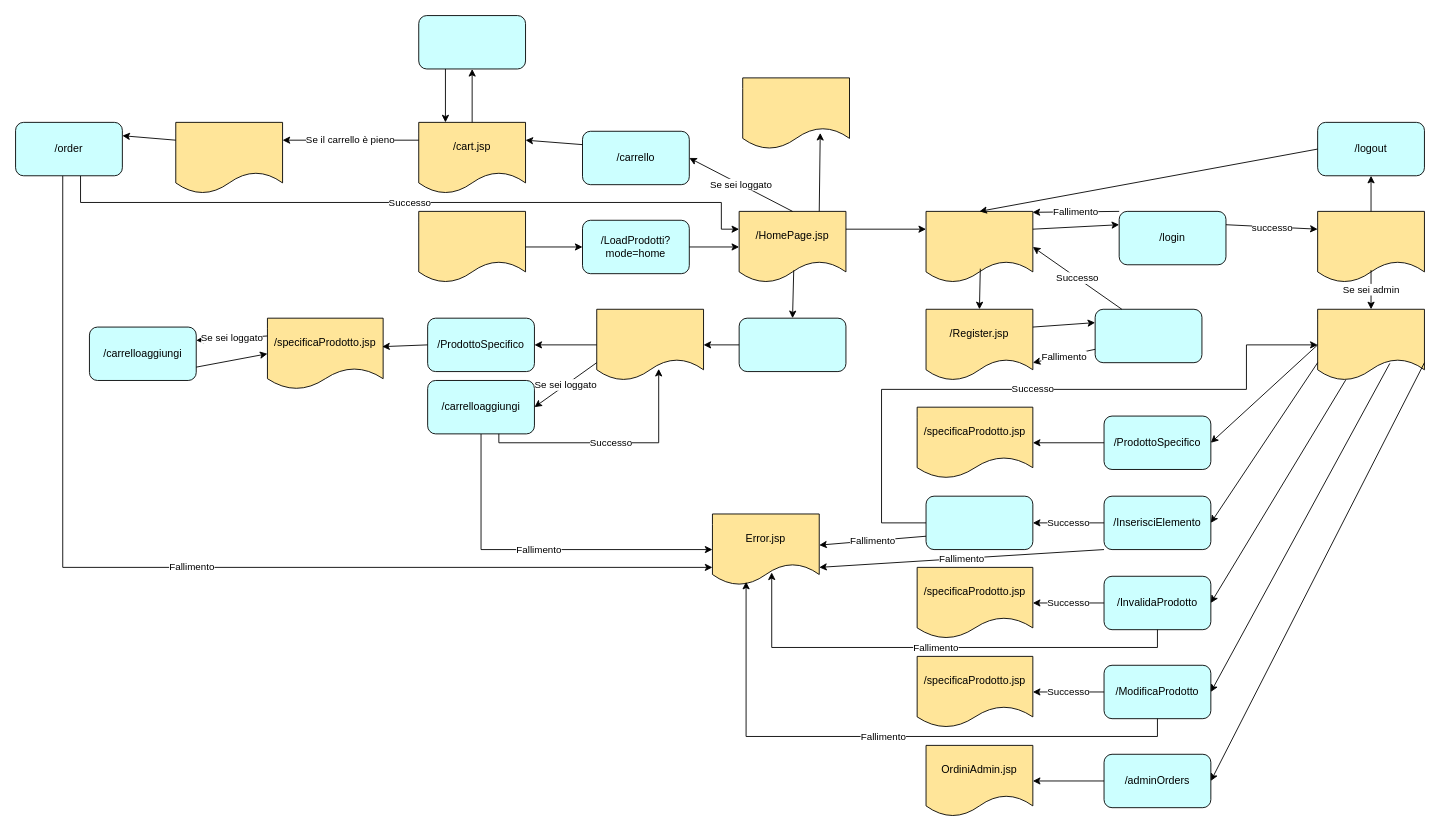
Some shapes in this 1447 by 832 pixel diagram are drawn without their labels. Here are the shapes that lost their labels. From the top down, the centre of each, then its label:
At (472,42): "/SvuotaCarrello".
At (796,113): "About.jsp".
At (229,157): "/finalizza.jsp".
At (472,246): "/index.jsp".
At (979,246): "/Login.jsp".
At (1370,246): "/user.jsp".
At (650,344): "/Shop.jsp".
At (792,344): "/LoadProdotti".
At (1148,335): "/register".
At (1370,344): "/AdminPage.jsp".
At (979,522): "/AggiungiImmagine".
